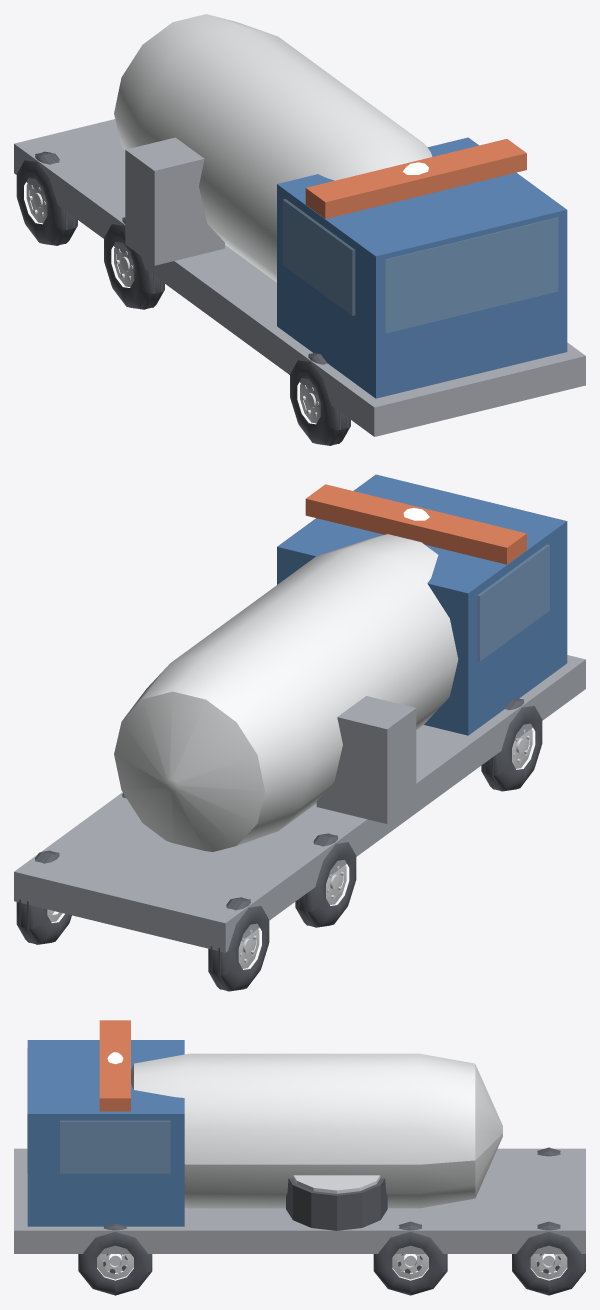
Rendered from AirportFuelBowser.glb.
3 renders of one model, top to bottom at view 1: azimuth 30°, elevation 25°; view 2: azimuth 150°, elevation 25°; view 3: azimuth 270°, elevation 25°, orthographic. The views are drawn at different scales.
Parts seen in each view (by area): view 1: fuel-bowser, wheel-2-leftdark, wheel-0-leftdark, wheel-1-leftdark, wheel-2-leftalloy, wheel-0-leftalloy, wheel-1-leftalloy; view 2: fuel-bowser, wheel-2-leftdark, wheel-1-leftdark, wheel-0-leftdark, wheel-2-rightdark; view 3: fuel-bowser, wheel-1-rightdark, wheel-2-rightdark, wheel-0-rightdark, wheel-2-rightalloy, wheel-0-rightalloy, wheel-1-rightalloy.
Part boxes in pixels (left/top/right/bottom): fuel-bowser: left=14, top=14, right=585, bottom=436; wheel-2-leftdark: left=16, top=151, right=77, bottom=245; wheel-0-leftdark: left=290, top=353, right=350, bottom=445; wheel-1-leftdark: left=104, top=217, right=164, bottom=309; wheel-2-leftalloy: left=26, top=183, right=47, bottom=223; wheel-0-leftalloy: left=300, top=383, right=320, bottom=423; wheel-1-leftalloy: left=114, top=247, right=134, bottom=286; fuel-bowser: left=14, top=474, right=585, bottom=952; wheel-2-leftdark: left=208, top=897, right=269, bottom=991; wheel-1-leftdark: left=295, top=833, right=356, bottom=927; wheel-0-leftdark: left=481, top=698, right=542, bottom=791; wheel-2-rightdark: left=16, top=850, right=71, bottom=944; fuel-bowser: left=14, top=1020, right=585, bottom=1253; wheel-1-rightdark: left=373, top=1221, right=447, bottom=1295; wheel-2-rightdark: left=512, top=1221, right=585, bottom=1295; wheel-0-rightdark: left=78, top=1223, right=152, bottom=1295; wheel-2-rightalloy: left=530, top=1253, right=567, bottom=1279; wheel-0-rightalloy: left=97, top=1254, right=133, bottom=1279; wheel-1-rightalloy: left=392, top=1254, right=428, bottom=1279.
Size of the model in its own units: 1.17 by 1.1 by 2.82.
